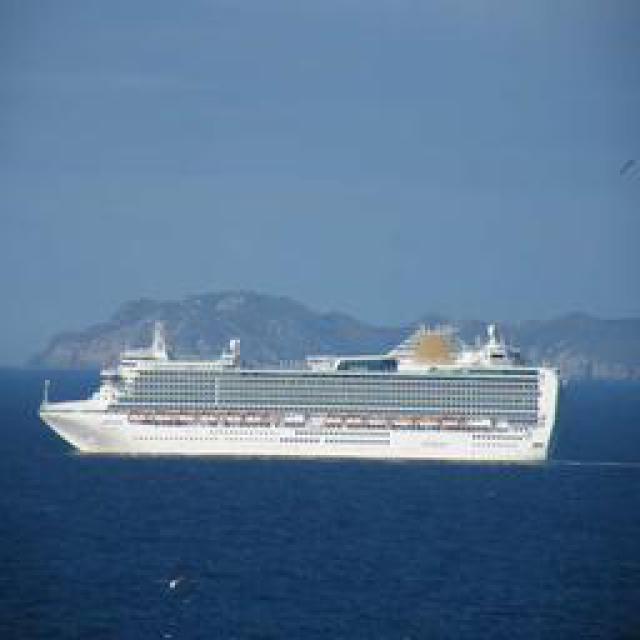Ship: (37, 327, 570, 465)
